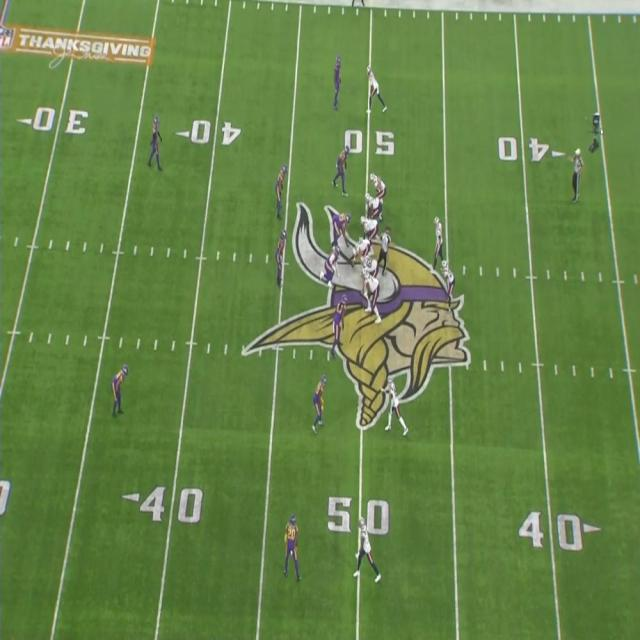center: (356, 236, 372, 264)
db: (284, 515, 300, 581), (111, 364, 128, 414), (312, 376, 326, 429), (149, 112, 162, 166), (332, 57, 343, 110)
lb: (278, 233, 290, 285), (275, 165, 285, 215)
qb: (435, 213, 445, 264)
skill: (354, 520, 379, 586), (384, 376, 404, 432), (366, 66, 386, 109), (444, 263, 458, 306), (372, 172, 387, 200)
